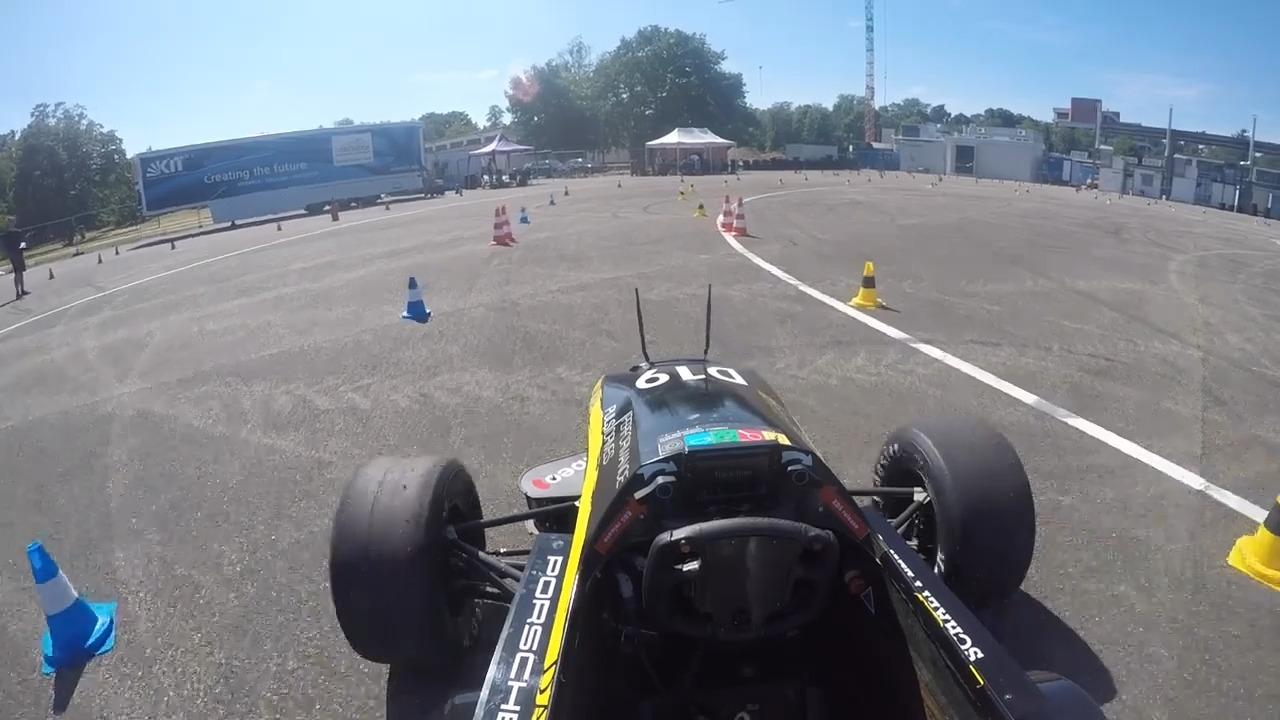blue_cone: (24, 542, 111, 651), (405, 274, 430, 320)
large_orange_cone: (719, 192, 744, 232), (491, 207, 517, 239)
yellow_cone: (857, 258, 881, 308)
